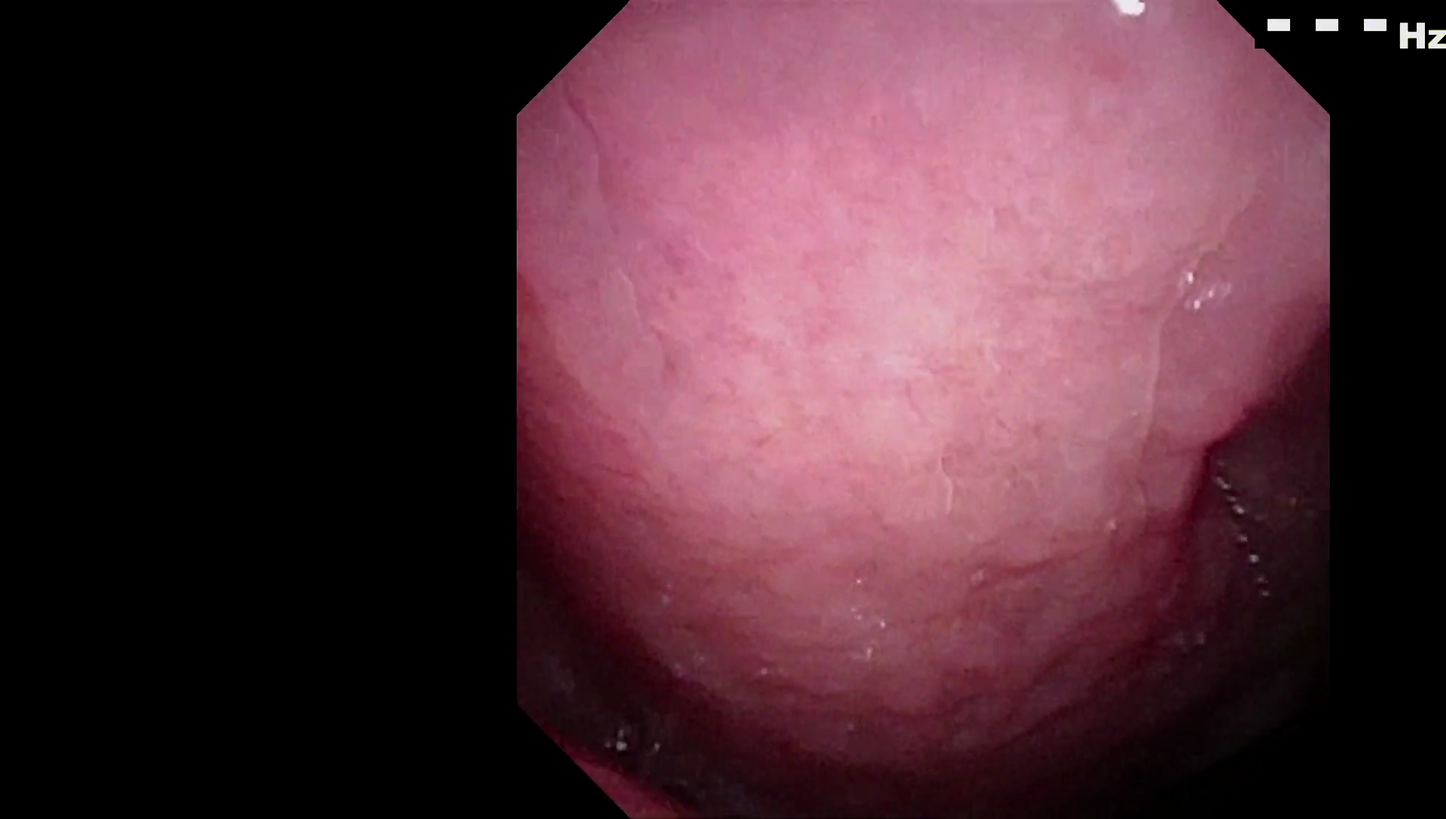close_wall: (576, 62, 1245, 578)
next: (1145, 491, 1317, 727), (1017, 634, 1229, 817), (562, 529, 694, 751)
